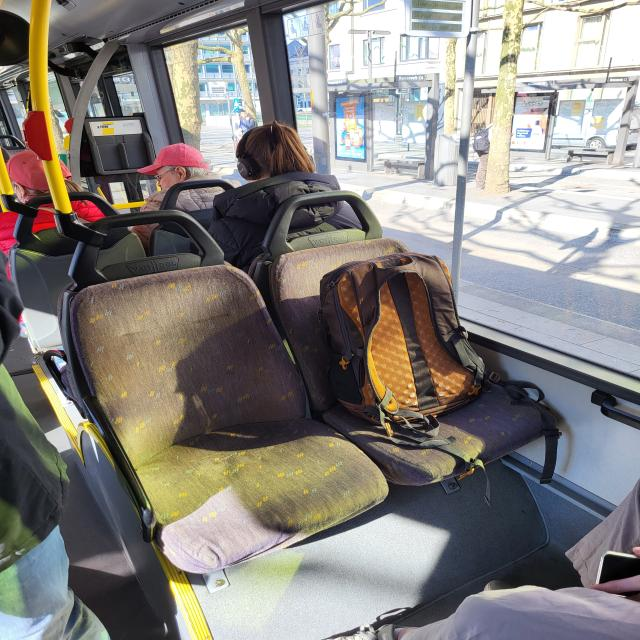empty-seat-frontal: (55, 213, 392, 576)
